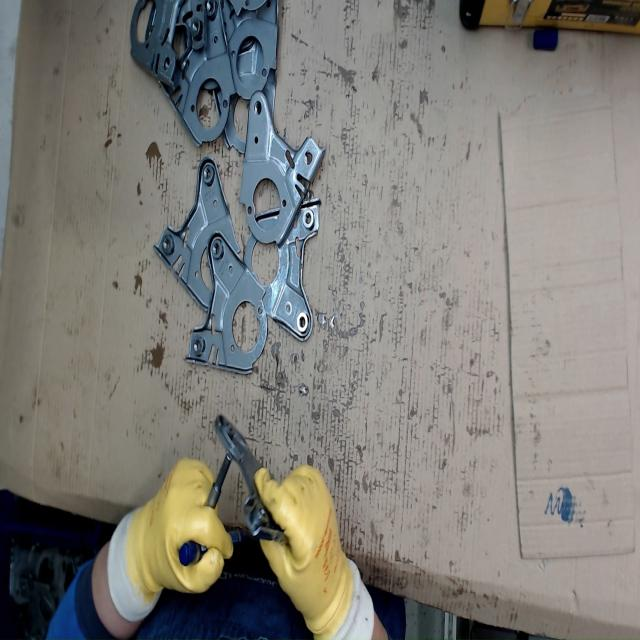hands: (254, 463, 352, 640), (126, 456, 235, 602)
